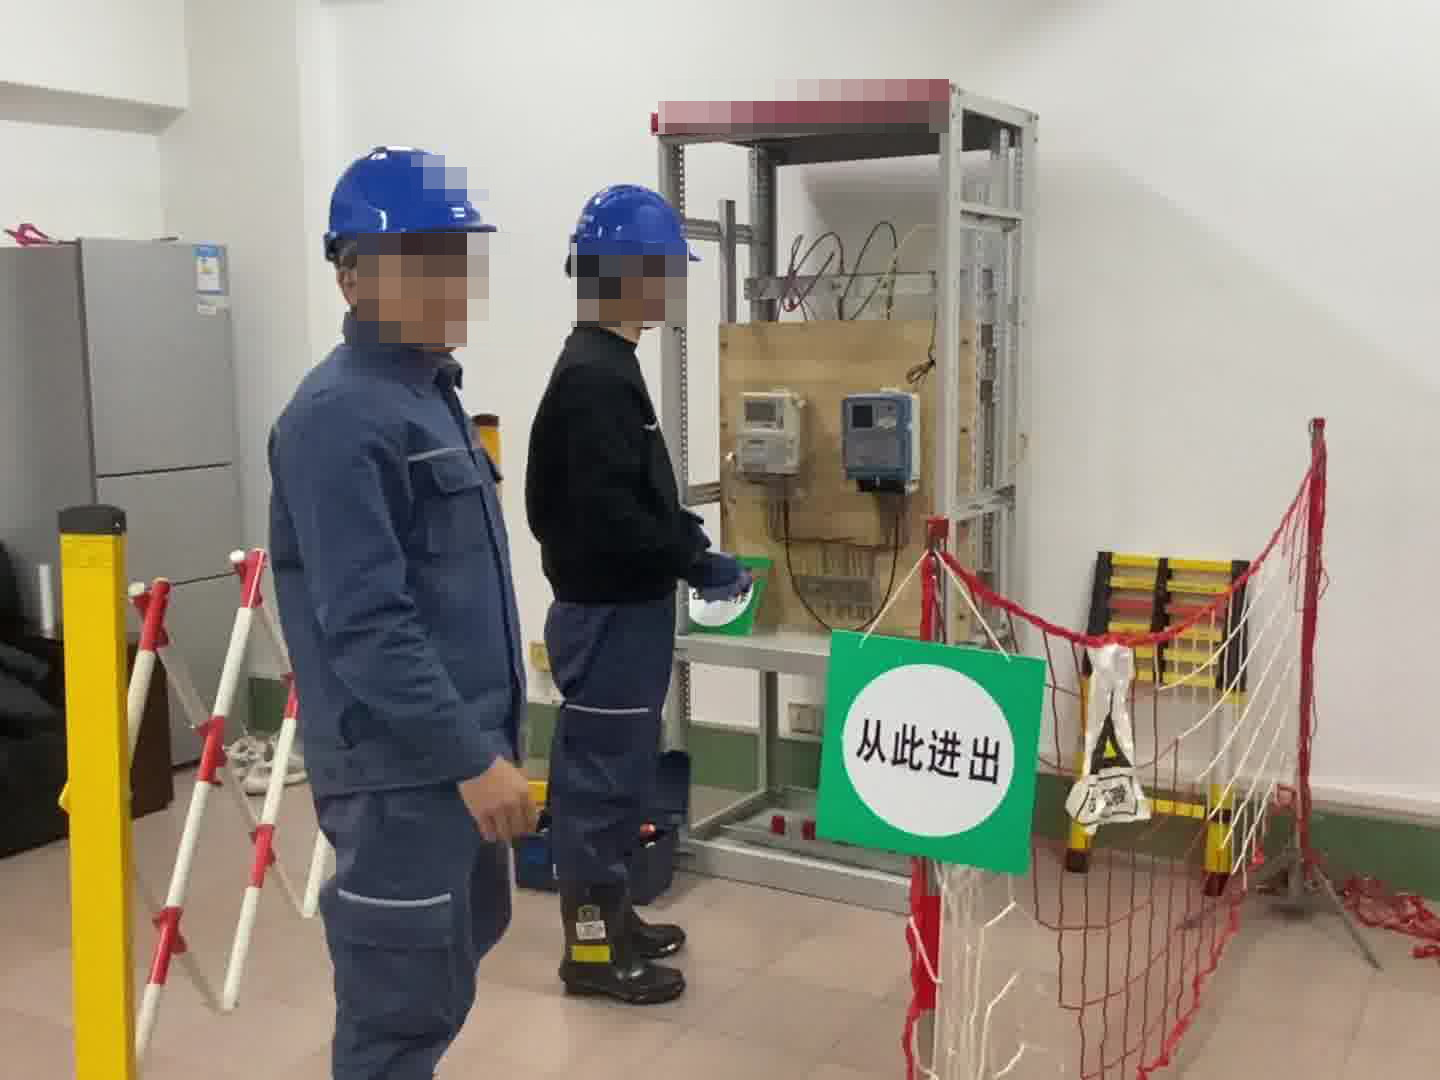downsuit: (306, 793, 517, 1080), (545, 593, 685, 872)
glove: (690, 544, 757, 604)
halt: (318, 145, 500, 347), (564, 183, 698, 337)
hand: (456, 759, 545, 850)
inear: (326, 245, 383, 316), (613, 252, 666, 314)
intosign: (813, 618, 1048, 876)
person: (261, 139, 529, 1080), (522, 174, 750, 1003)
shoe: (556, 873, 690, 1006)
upcloth: (523, 319, 738, 607)
upsuit: (265, 309, 519, 786)
worksign: (680, 551, 773, 639)
